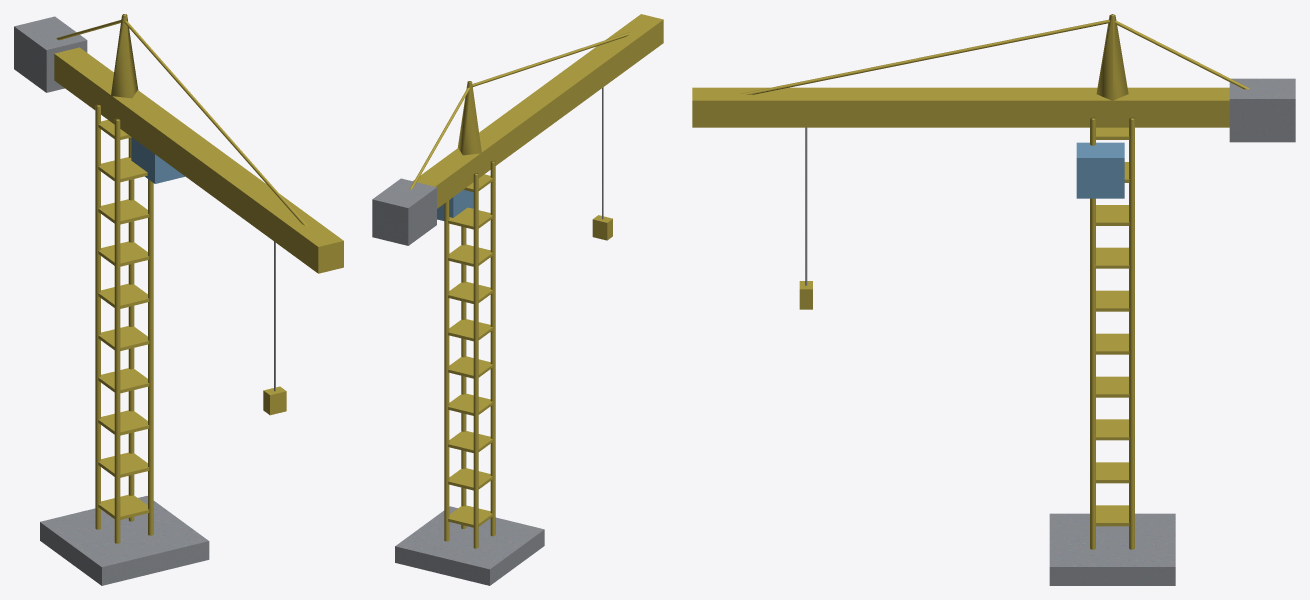
Rendered from prop_tower_crane.glb.
The picture shows the model from 3 angles, left to right: view 1: azimuth 30°, elevation 25°; view 2: azimuth 150°, elevation 25°; view 3: azimuth 270°, elevation 25°; orthographic projection. The views are drawn at different scales.
Parts seen in each view (by area): view 1: primary_color, counterweight, cab_glass; view 2: primary_color, counterweight, cab_glass; view 3: primary_color, counterweight, cab_glass.
Part boxes in pixels (box(x1,y1,x2,y2)): primary_color: box(54, 14, 343, 543); counterweight: box(14, 16, 275, 585); cab_glass: box(131, 137, 184, 183); primary_color: box(410, 14, 663, 548); counterweight: box(372, 87, 603, 585); cab_glass: box(437, 190, 473, 220); primary_color: box(692, 14, 1249, 549); counterweight: box(805, 78, 1295, 585); cab_glass: box(1076, 142, 1124, 198).
Bounding box in the file's own units: 4.2 × 20 × 20.1.
Materials: 3 (2 with a texture image).
